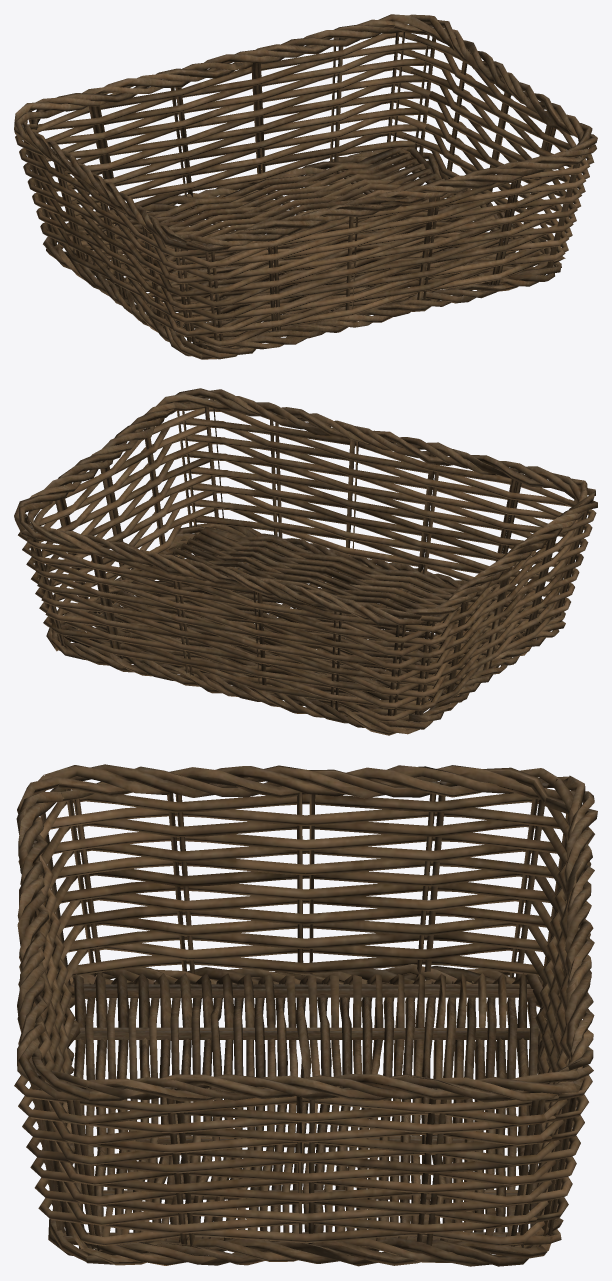
File: wicker_basket_01.glb
The picture shows the model from 3 angles, top to bottom: view 1: azimuth 30°, elevation 25°; view 2: azimuth 150°, elevation 25°; view 3: azimuth 270°, elevation 25°; orthographic projection. The views are drawn at different scales.
Visible parts, largest first — view 1: wicker_basket_01; view 2: wicker_basket_01; view 3: wicker_basket_01.
Boxes of the visible parts, left/top/right/bottom form: wicker_basket_01: left=14, top=14, right=597, bottom=359; wicker_basket_01: left=14, top=388, right=597, bottom=735; wicker_basket_01: left=14, top=764, right=597, bottom=1266.
Size of the model in its own units: 0.3834 by 0.118 by 0.2948.
1 material, 1 textured.
